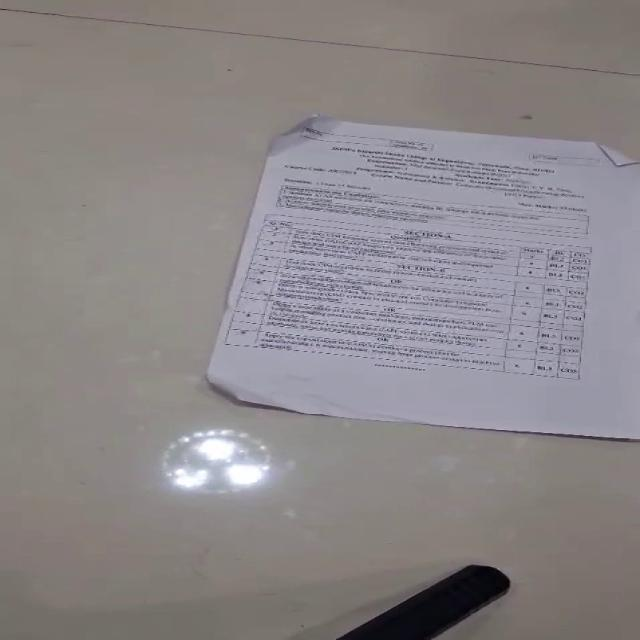paper: (205, 113, 639, 440)
